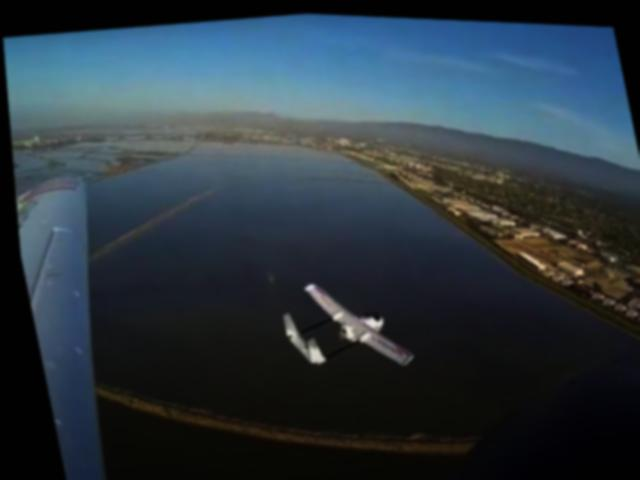iha: (260, 257, 418, 378)
